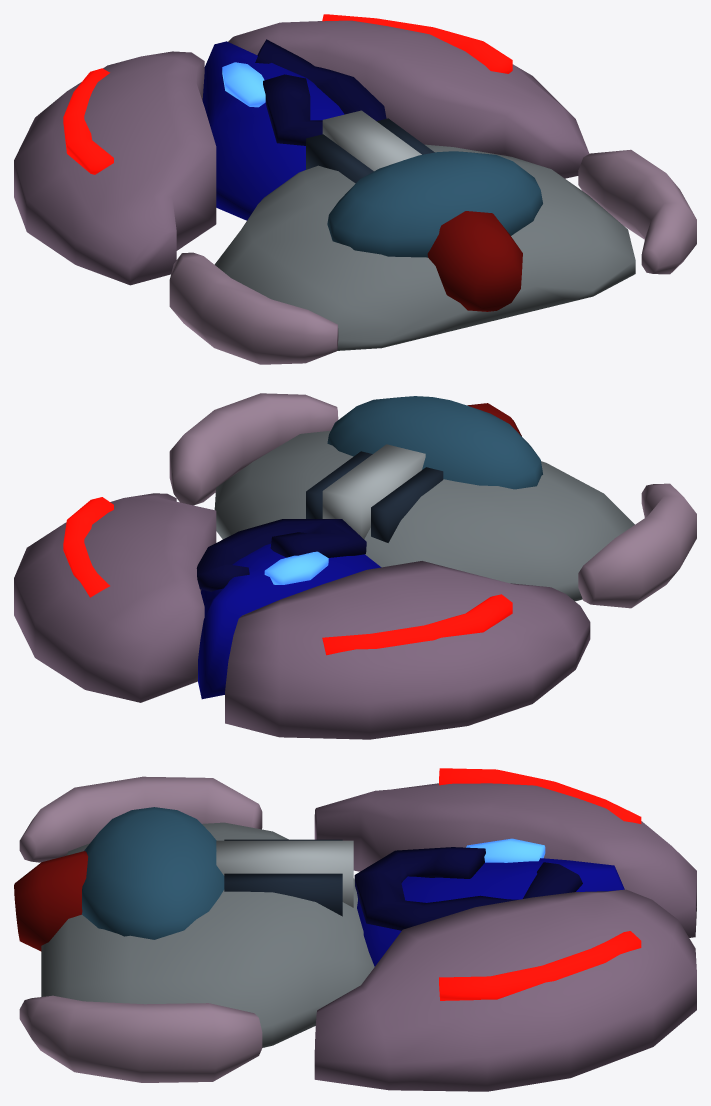
Rendered from newshv-161.glb.
3 renders of one model, top to bottom at view 1: azimuth 30°, elevation 25°; view 2: azimuth 150°, elevation 25°; view 3: azimuth 270°, elevation 25°, orthographic. The views are drawn at different scales.
Visible parts, largest first — view 1: newshv-161; view 2: newshv-161; view 3: newshv-161.
Part boxes in pixels (x1,y1,x2,y2): newshv-161: (14,14,696,364); newshv-161: (14,393,696,739); newshv-161: (14,768,696,1091).
Size of the model in its own units: 1.94 by 0.4636 by 2.12.
